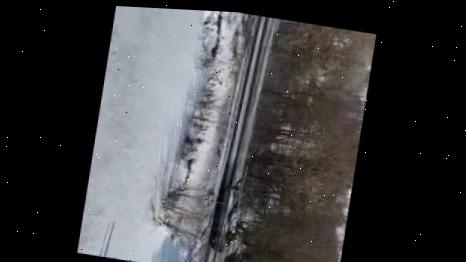tank: (205, 161, 247, 256)
